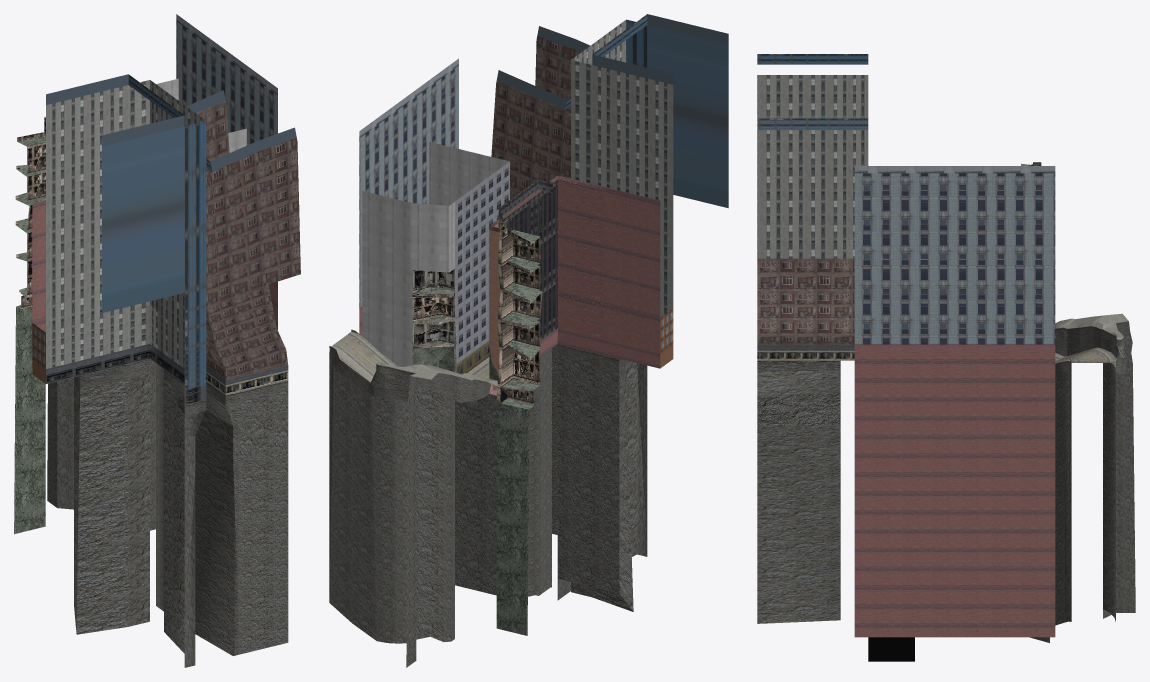
The model's file is STG0100_OS_05.fbx.
3 renders of one model, left to right at view 1: azimuth 30°, elevation 25°; view 2: azimuth 150°, elevation 25°; view 3: azimuth 270°, elevation 25°, orthographic.
Parts seen in each view (by area): view 1: STG0100_OS_05_default; view 2: STG0100_OS_05_default; view 3: STG0100_OS_05_default.
Part boxes in pixels (<box>): STG0100_OS_05_default: <box>14,14,300,667</box>; STG0100_OS_05_default: <box>329,14,728,667</box>; STG0100_OS_05_default: <box>757,54,1135,661</box>.
Size of the model in its own units: 933 by 2190 by 1374.
